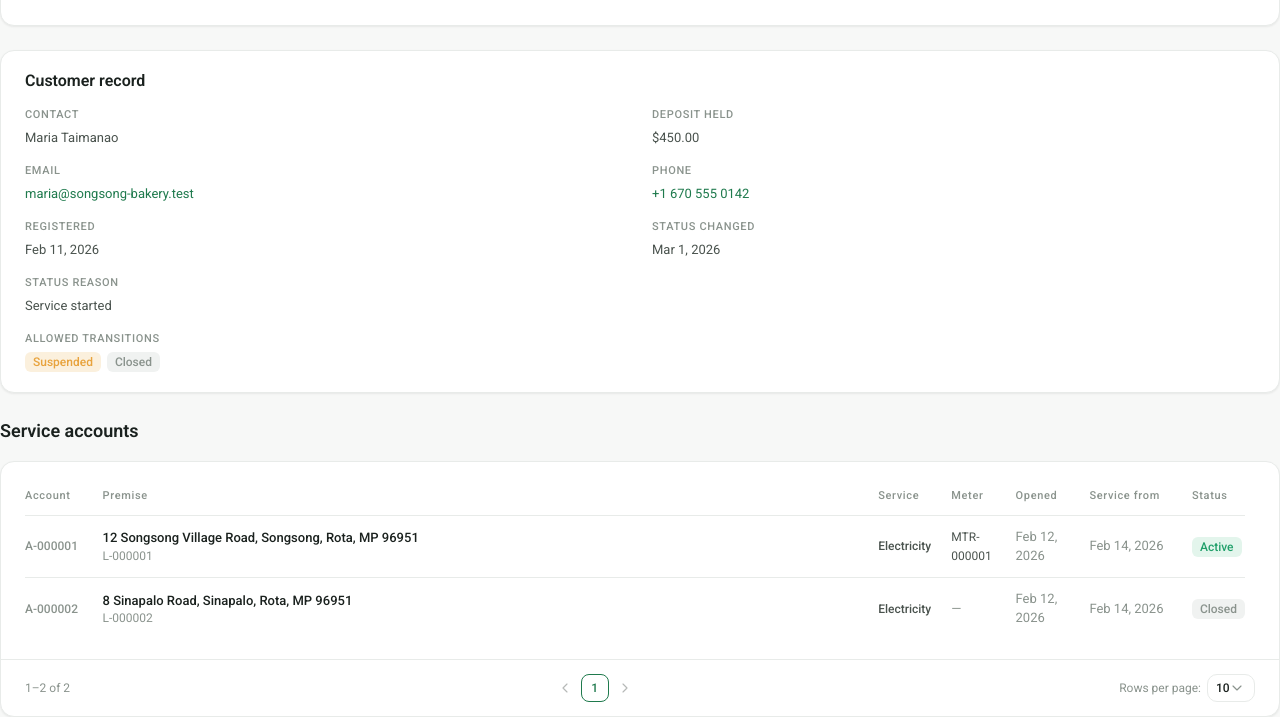
CustomerDetailPage › opens an account in a drawer, with its premise, meter and history
(page scrolled)
What coordinates should you click on to do the following:
click the button "12 Songsong Village Road, Songsong, Rota, MP 96951 L-000001"
I would click on:
 (261, 538)
Its box is [102,530,862,564].
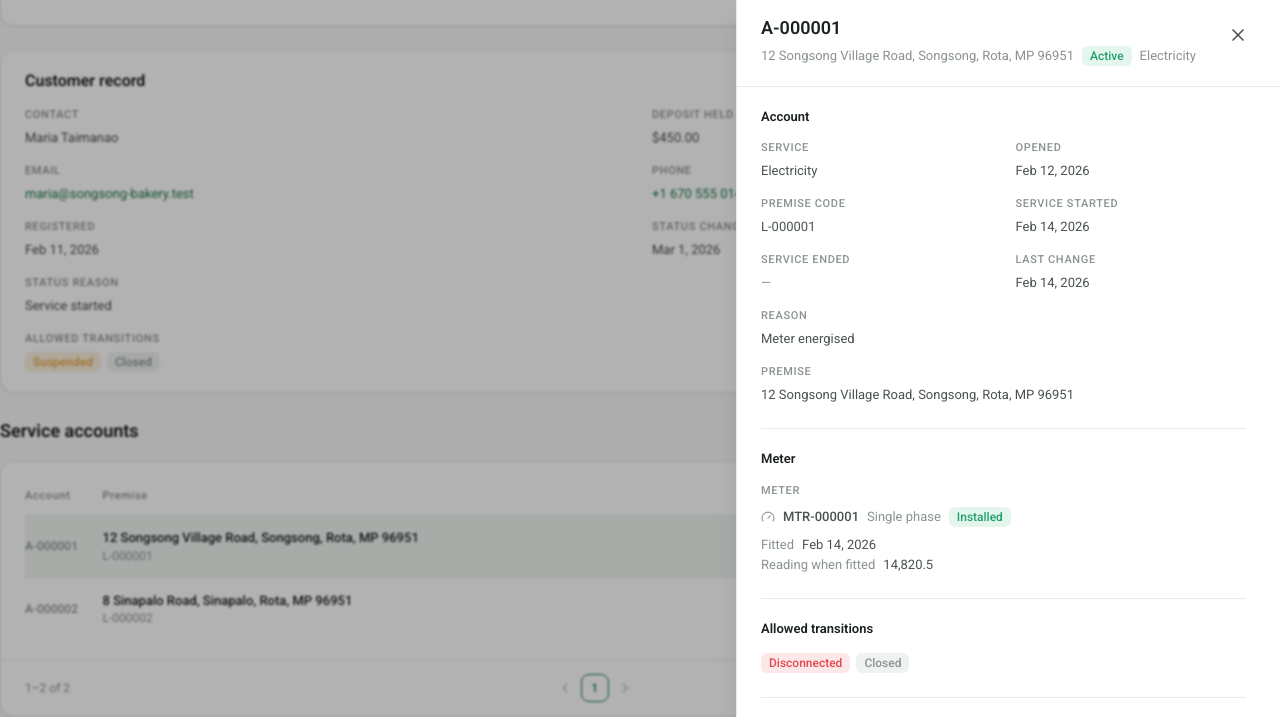
Check: the heading "A-000001" is shown, box [761,17,841,38]
Check: the text "Single phase" is shown, box [867,507,941,527]
Check: the text "14,820.5" is shown, box [883,554,933,574]
